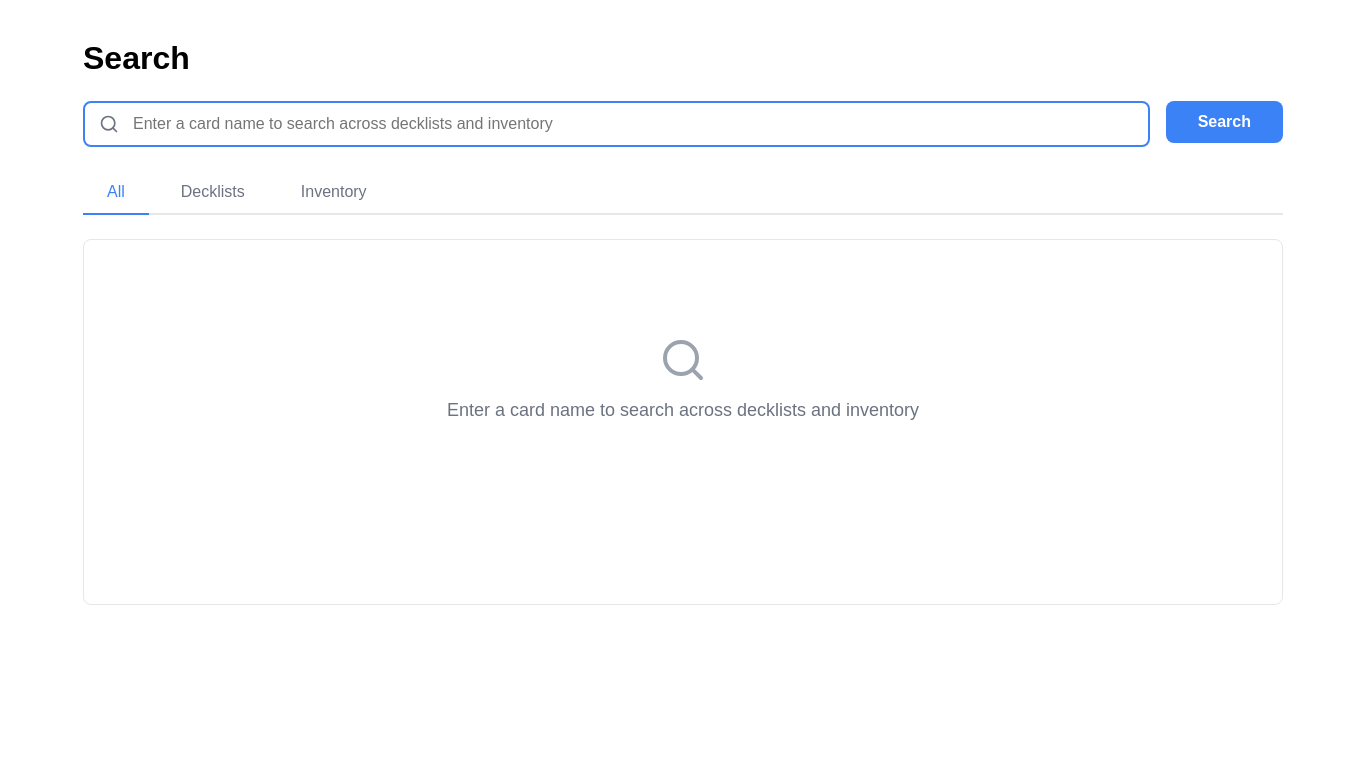
Test: Search Page - Decklist Results Rendering › should render decklist results when search returns decklists
Type "Sol Ring" into the field with placeholder "Enter a card name to search across decklists and inventory".
click(616, 124); type("Sol Ring")  # box [83,101,1150,147]
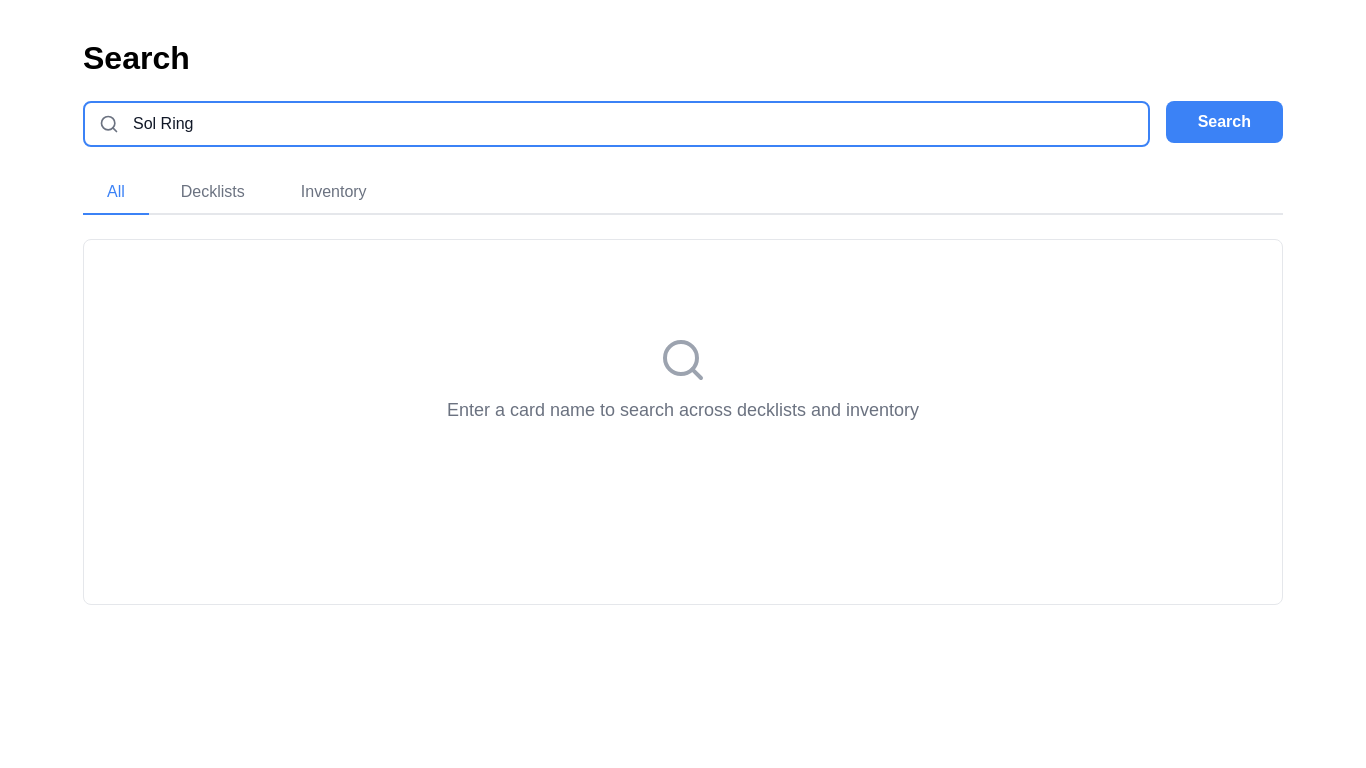
Click the button "Search".
click(1224, 122)  # box [1166,101,1283,143]
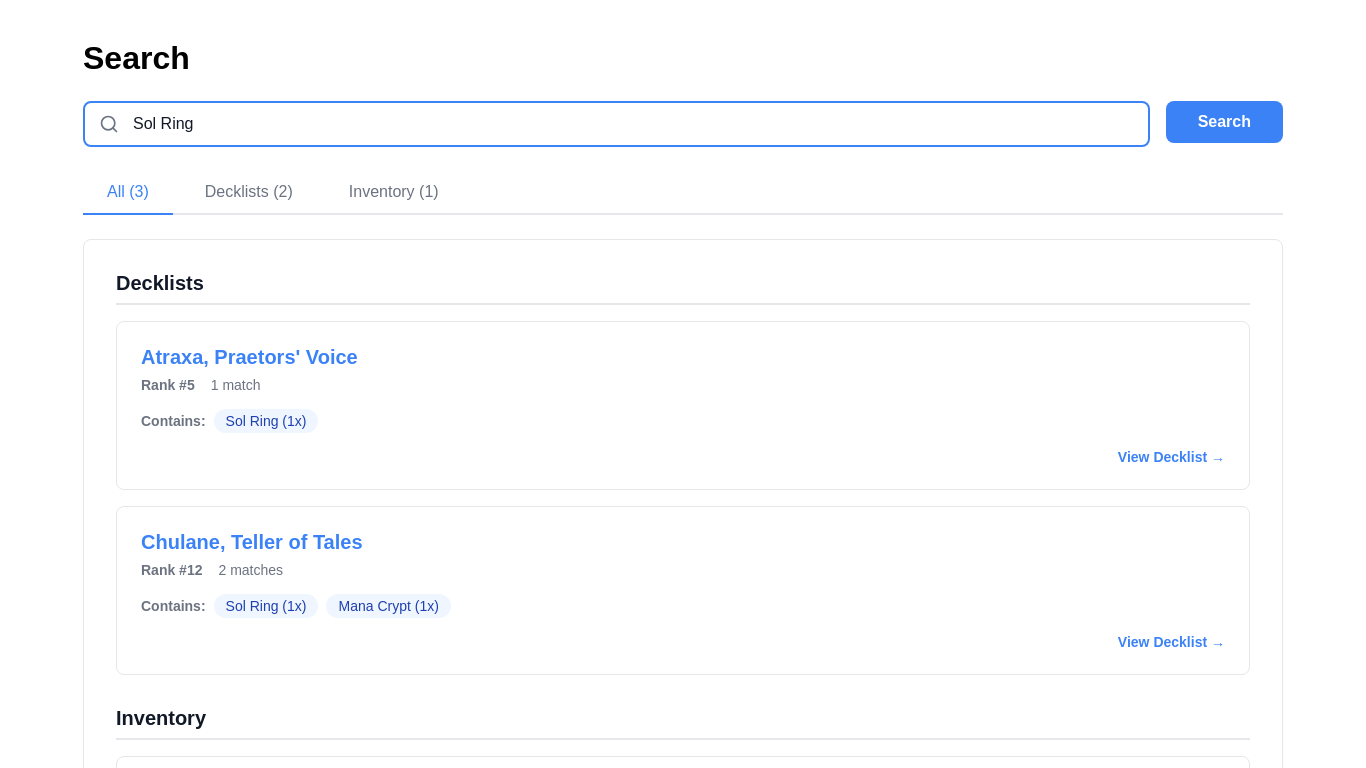
expect the link "Atraxa, Praetors' Voice" is shown: met, box [141,346,358,368]
expect the link "Chulane, Teller of Tales" is shown: met, box [141,531,362,553]
